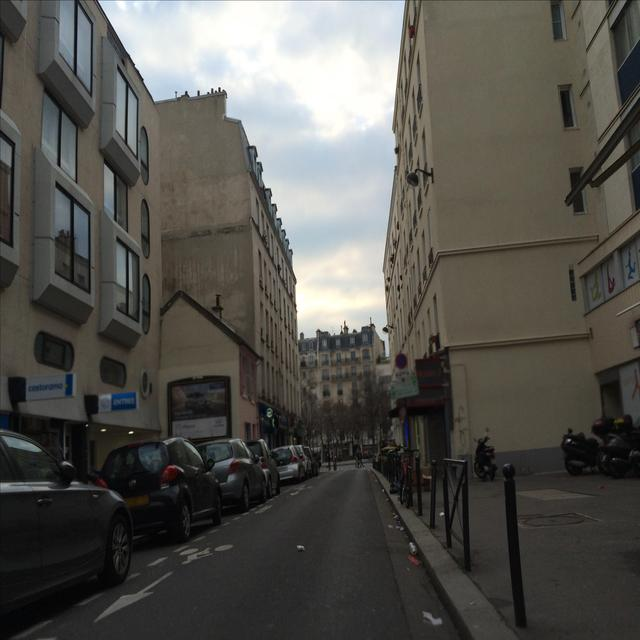Bicycle: (388, 445, 419, 508)
Billboard: (9, 372, 138, 414), (168, 376, 229, 445), (618, 318, 639, 424), (413, 357, 449, 387), (261, 406, 273, 418)
Car: (0, 428, 318, 617)
Manhole: (518, 512, 595, 527)
Motorcycle: (560, 414, 639, 478), (474, 426, 496, 480)
Trash Can: (380, 446, 395, 455)
Vegetation: (298, 370, 391, 462)
